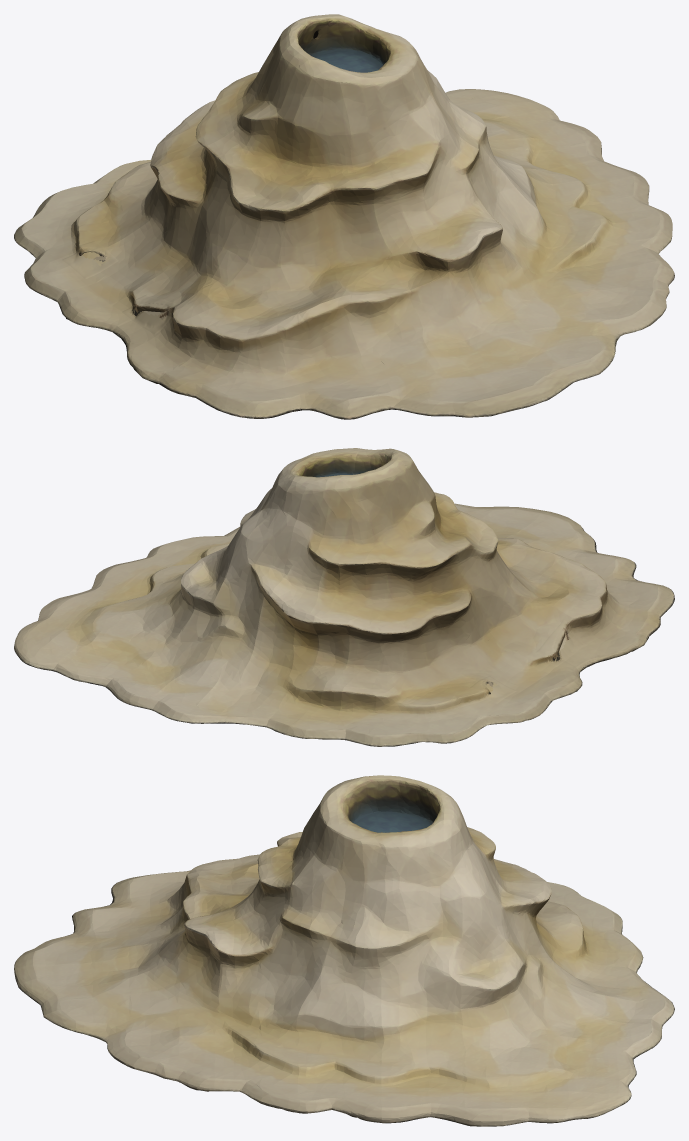
3 renders of one model, top to bottom at view 1: azimuth 30°, elevation 25°; view 2: azimuth 150°, elevation 25°; view 3: azimuth 270°, elevation 25°, orthographic. The views are drawn at different scales.
Visible parts, largest first — view 1: world, round-hole reversible exterior repair, skirt-slit reversible exterior repair; view 2: world, skirt-slit reversible exterior repair, round-hole reversible exterior repair; view 3: world.
Part boxes in pixels (left/top/right/bottom): world: left=14, top=14, right=674, bottom=419; round-hole reversible exterior repair: left=62, top=241, right=118, bottom=278; skirt-slit reversible exterior repair: left=122, top=294, right=178, bottom=334; world: left=14, top=448, right=674, bottom=746; skirt-slit reversible exterior repair: left=535, top=619, right=583, bottom=666; round-hole reversible exterior repair: left=469, top=675, right=516, bottom=703; world: left=14, top=775, right=674, bottom=1126.
Size of the model in its own units: 3.22 by 1.14 by 3.5.
Materials: 5 (5 with a texture image).
